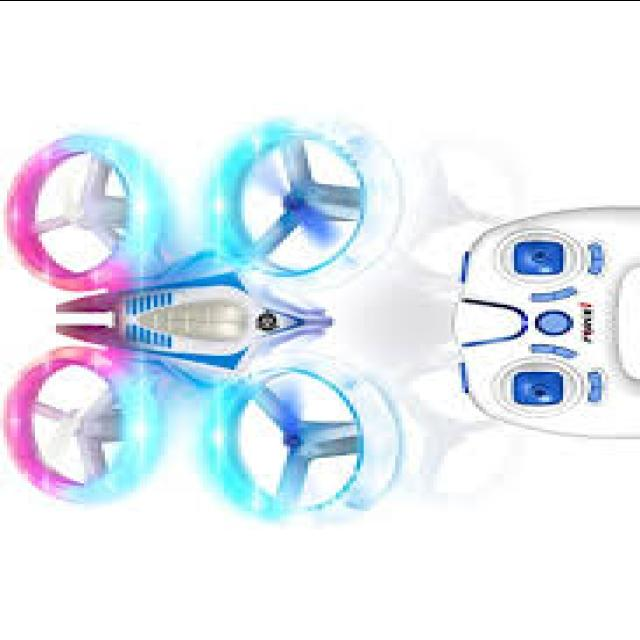drone: (0, 86, 460, 556)
